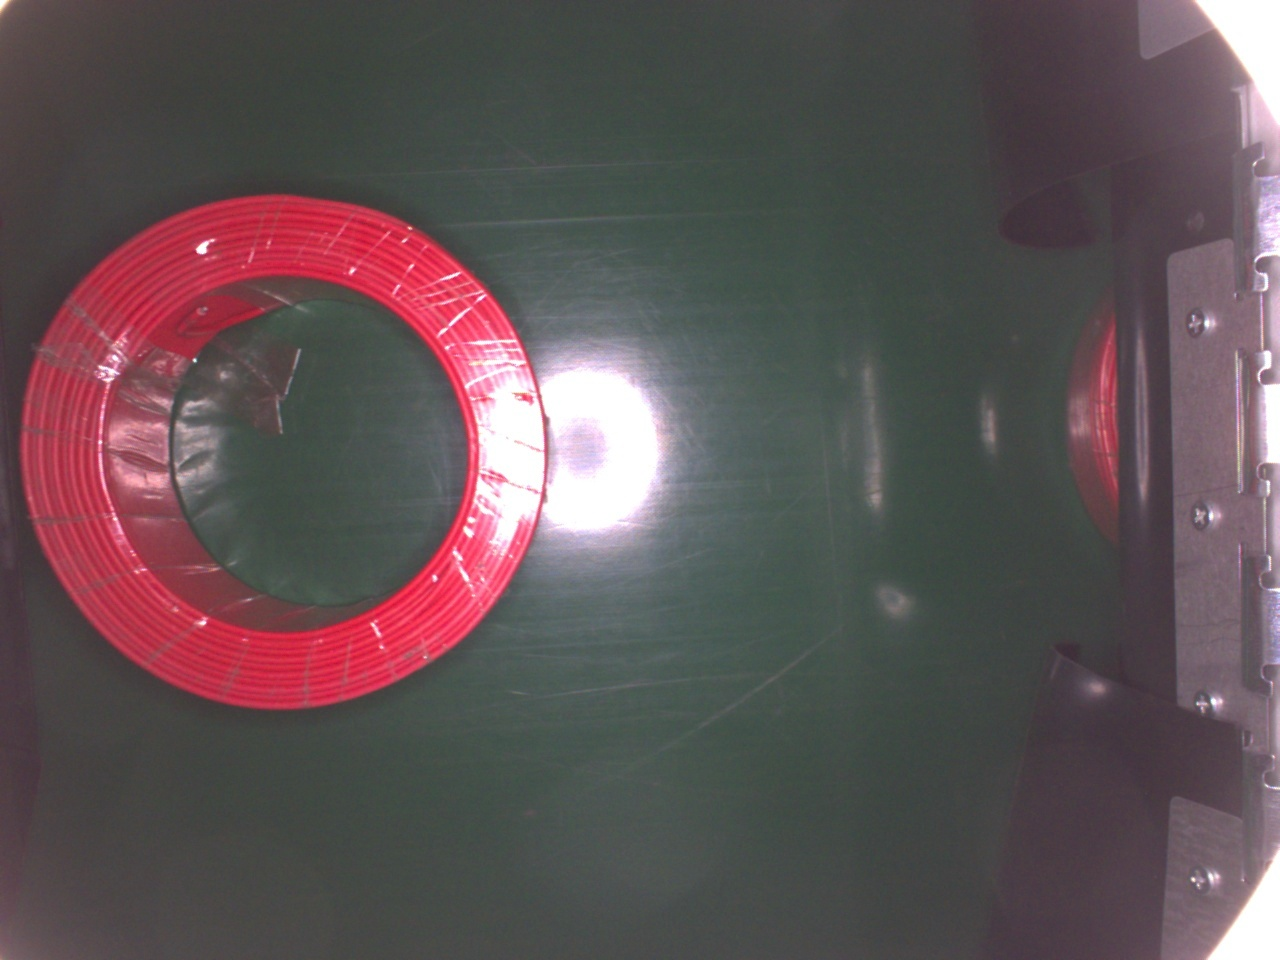red: (19, 187, 550, 715)
